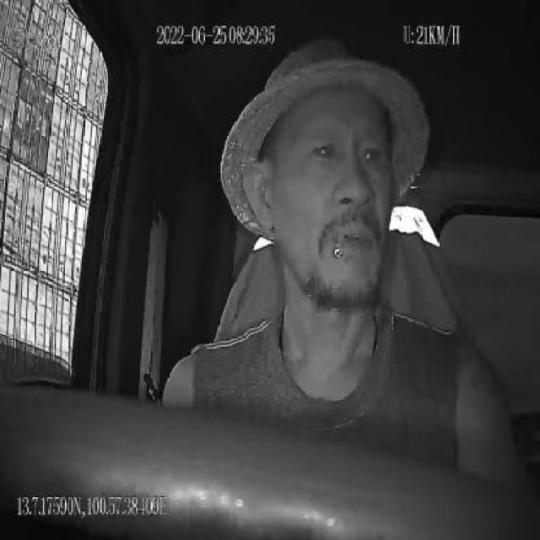smoking: (333, 228, 346, 260)
